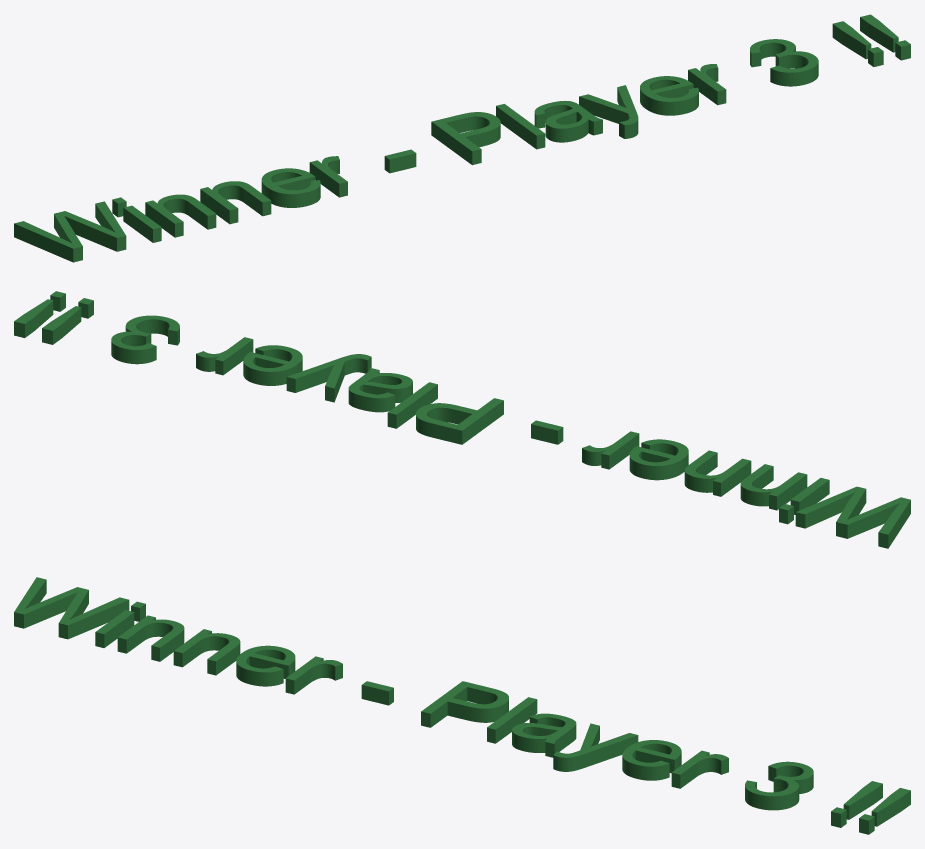
The model's file is p3-win.obj.
3 renders of one model, top to bottom at view 1: azimuth 30°, elevation 25°; view 2: azimuth 150°, elevation 25°; view 3: azimuth 330°, elevation 25°, orthographic. The views are drawn at different scales.
Visible parts, largest first — view 1: TextPlus003; view 2: TextPlus003; view 3: TextPlus003.
Part boxes in pixels (x1,y1,x2,y2): TextPlus003: [14, 14, 910, 262]; TextPlus003: [14, 291, 910, 548]; TextPlus003: [14, 577, 910, 834].
Bounding box in the file's own units: 195 × 3 × 20.8.
